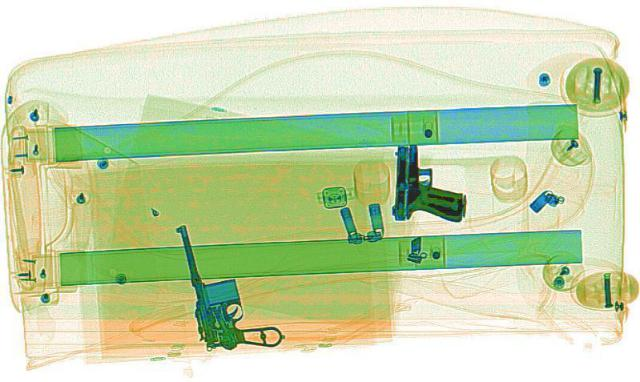Gun: (170, 217, 284, 350), (389, 141, 473, 221)
